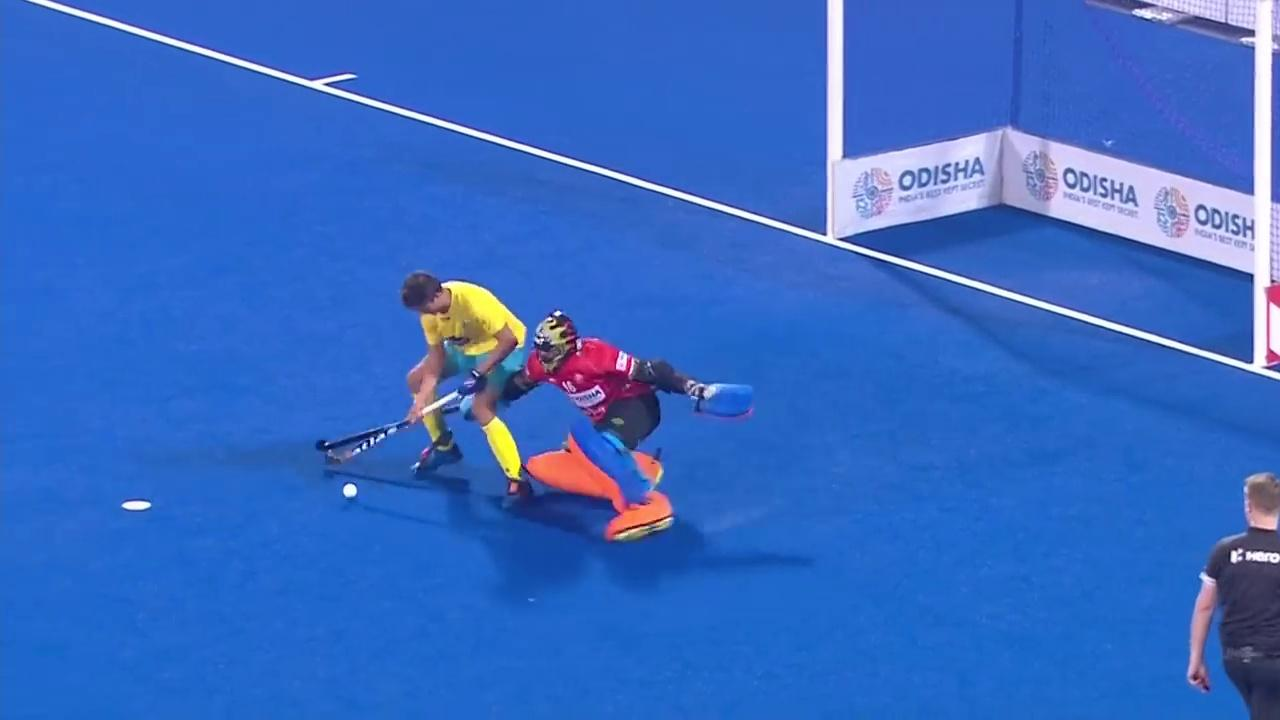ball: (329, 465, 373, 512)
